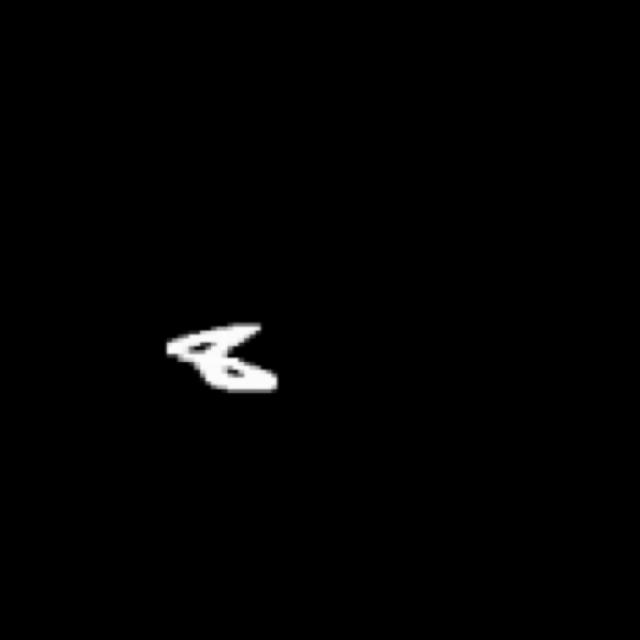eight -8-: (159, 318, 288, 400)
